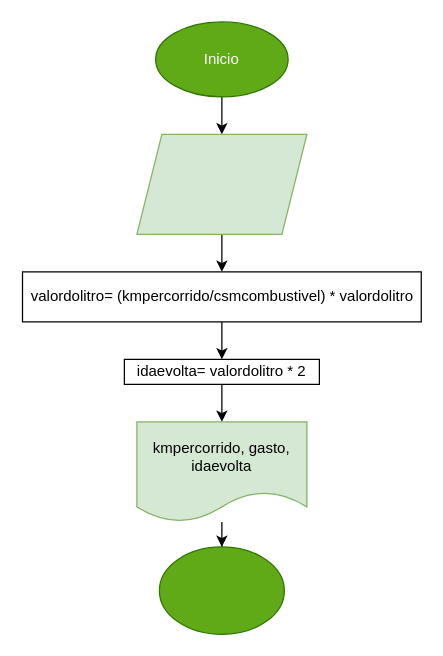
This 443x656 diagram has some shape labels left out. The shapes that lost their labels are listed below. From the top down, each one's centre as x and y in pixels, then its label:
point (221, 183): kmpercorrido, csmcombustivel, valordolitro, gasto, idaevolta
point (221, 590): Fim
